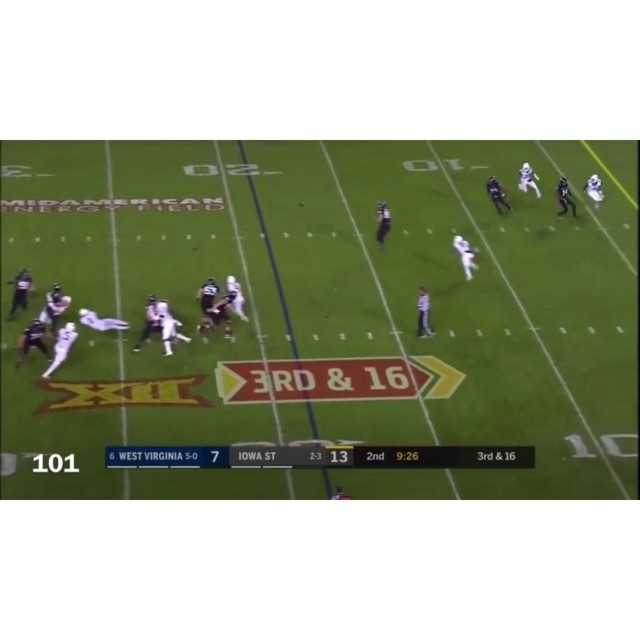american-football-player: (148, 295, 192, 355), (40, 321, 80, 379), (132, 294, 167, 355), (201, 292, 238, 342), (15, 318, 51, 369), (39, 282, 72, 332), (5, 267, 35, 322), (194, 276, 221, 331), (79, 308, 129, 337), (451, 234, 480, 281), (224, 275, 249, 322), (486, 175, 513, 216), (372, 200, 392, 252), (555, 175, 578, 219), (517, 162, 542, 199), (583, 174, 605, 211)
referee: (415, 285, 436, 338)
